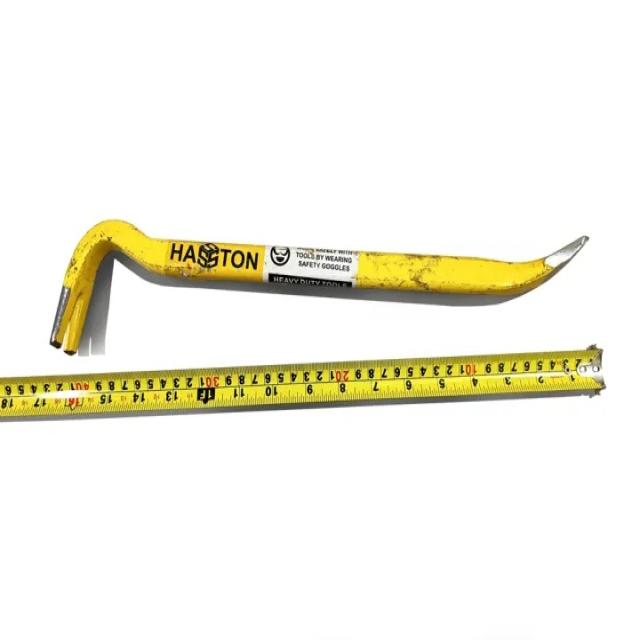Linggis: (54, 216, 595, 358)
